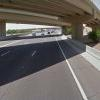Bridge: (7, 0, 98, 48)
